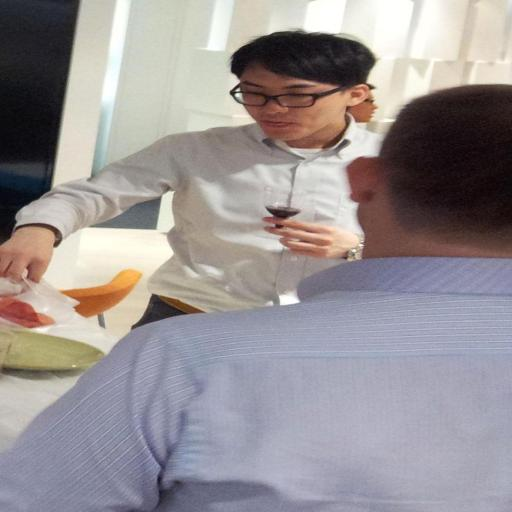person: (0, 85, 511, 511), (0, 31, 380, 325), (348, 84, 378, 122)
